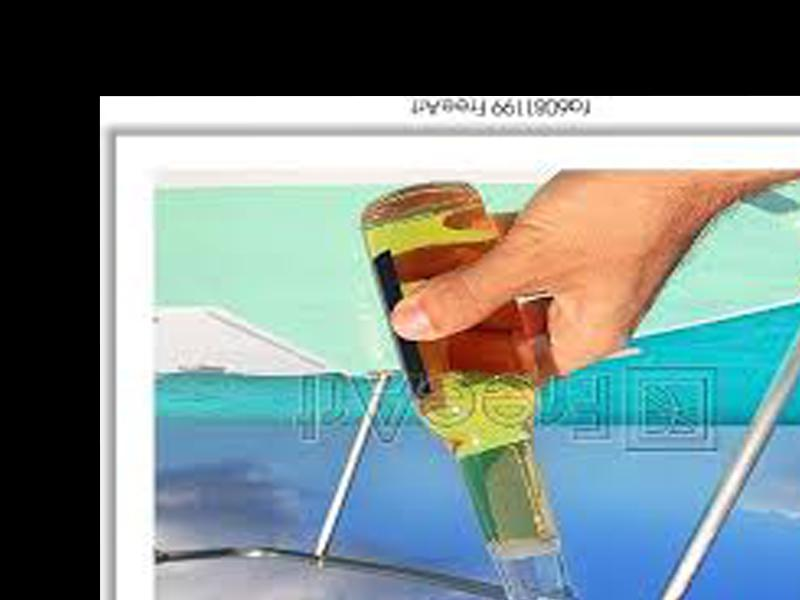Beer: (357, 188, 592, 600)
